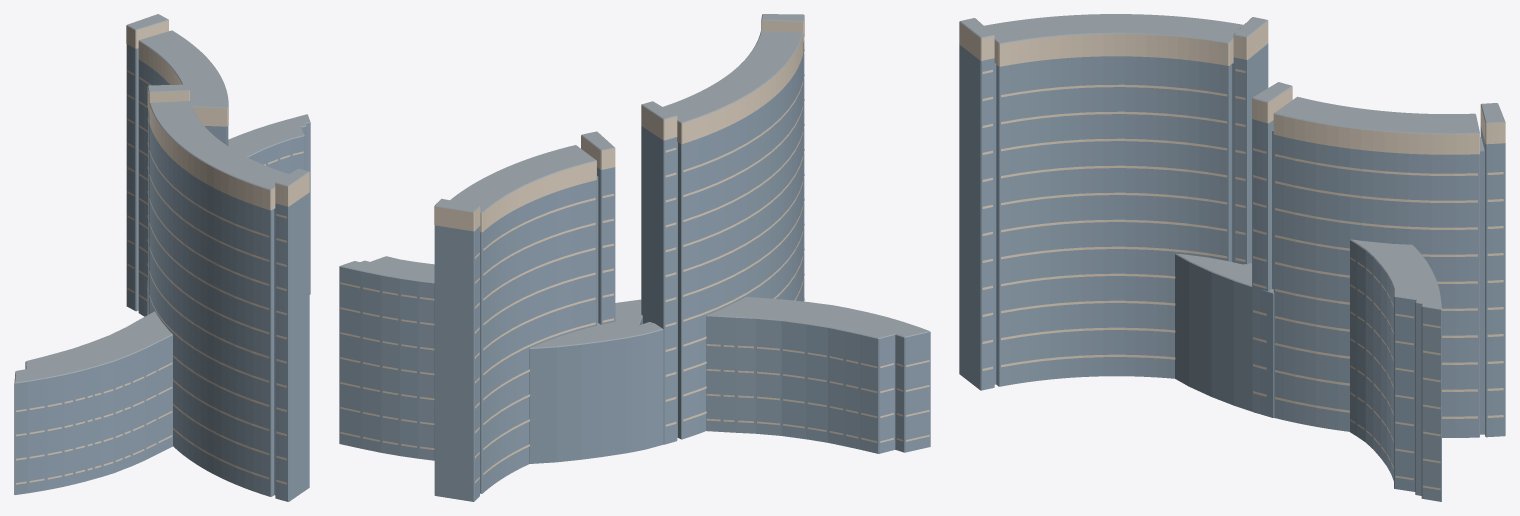
The picture shows the model from 3 angles, left to right: view 1: azimuth 30°, elevation 25°; view 2: azimuth 150°, elevation 25°; view 3: azimuth 270°, elevation 25°; orthographic projection. The views are drawn at different scales.
Visible parts, largest first — view 1: aria-resort-casino; view 2: aria-resort-casino; view 3: aria-resort-casino.
Boxes of the visible parts, x1=… form: aria-resort-casino: x1=14, y1=14, x2=310, y2=501; aria-resort-casino: x1=339, y1=14, x2=930, y2=501; aria-resort-casino: x1=959, y1=14, x2=1505, y2=501.
Size of the model in its own units: 263 by 183 by 257.
